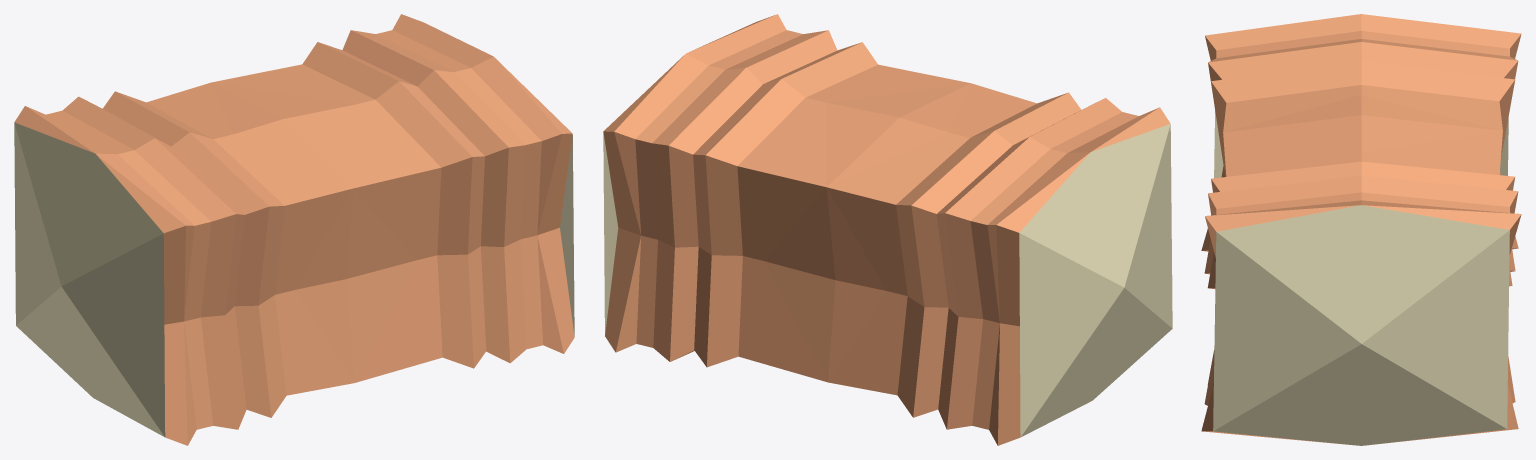
File: Bread loaf.fbx
The picture shows the model from 3 angles, left to right: view 1: azimuth 30°, elevation 25°; view 2: azimuth 150°, elevation 25°; view 3: azimuth 270°, elevation 25°; orthographic projection. The views are drawn at different scales.
Parts seen in each view (by area): view 1: Bread loaf; view 2: Bread loaf; view 3: Bread loaf.
Part boxes in pixels (<box>): Bread loaf: <box>14,14,574,445</box>; Bread loaf: <box>603,14,1172,445</box>; Bread loaf: <box>1201,14,1521,445</box>.
Size of the model in its own units: 21.32 by 11.2 by 12.92.
